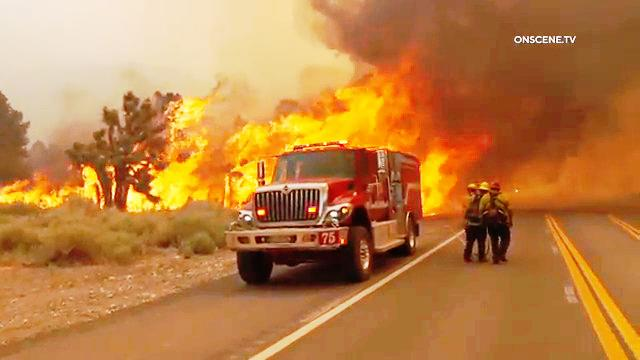fire: (82, 109, 238, 220), (302, 42, 392, 157), (427, 138, 486, 219), (0, 182, 93, 230), (235, 137, 290, 215)
smoke: (499, 67, 622, 176)
